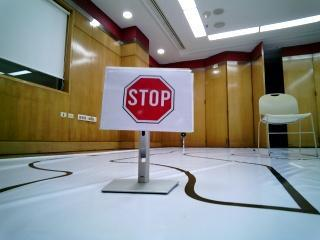stop: (107, 67, 192, 132)
